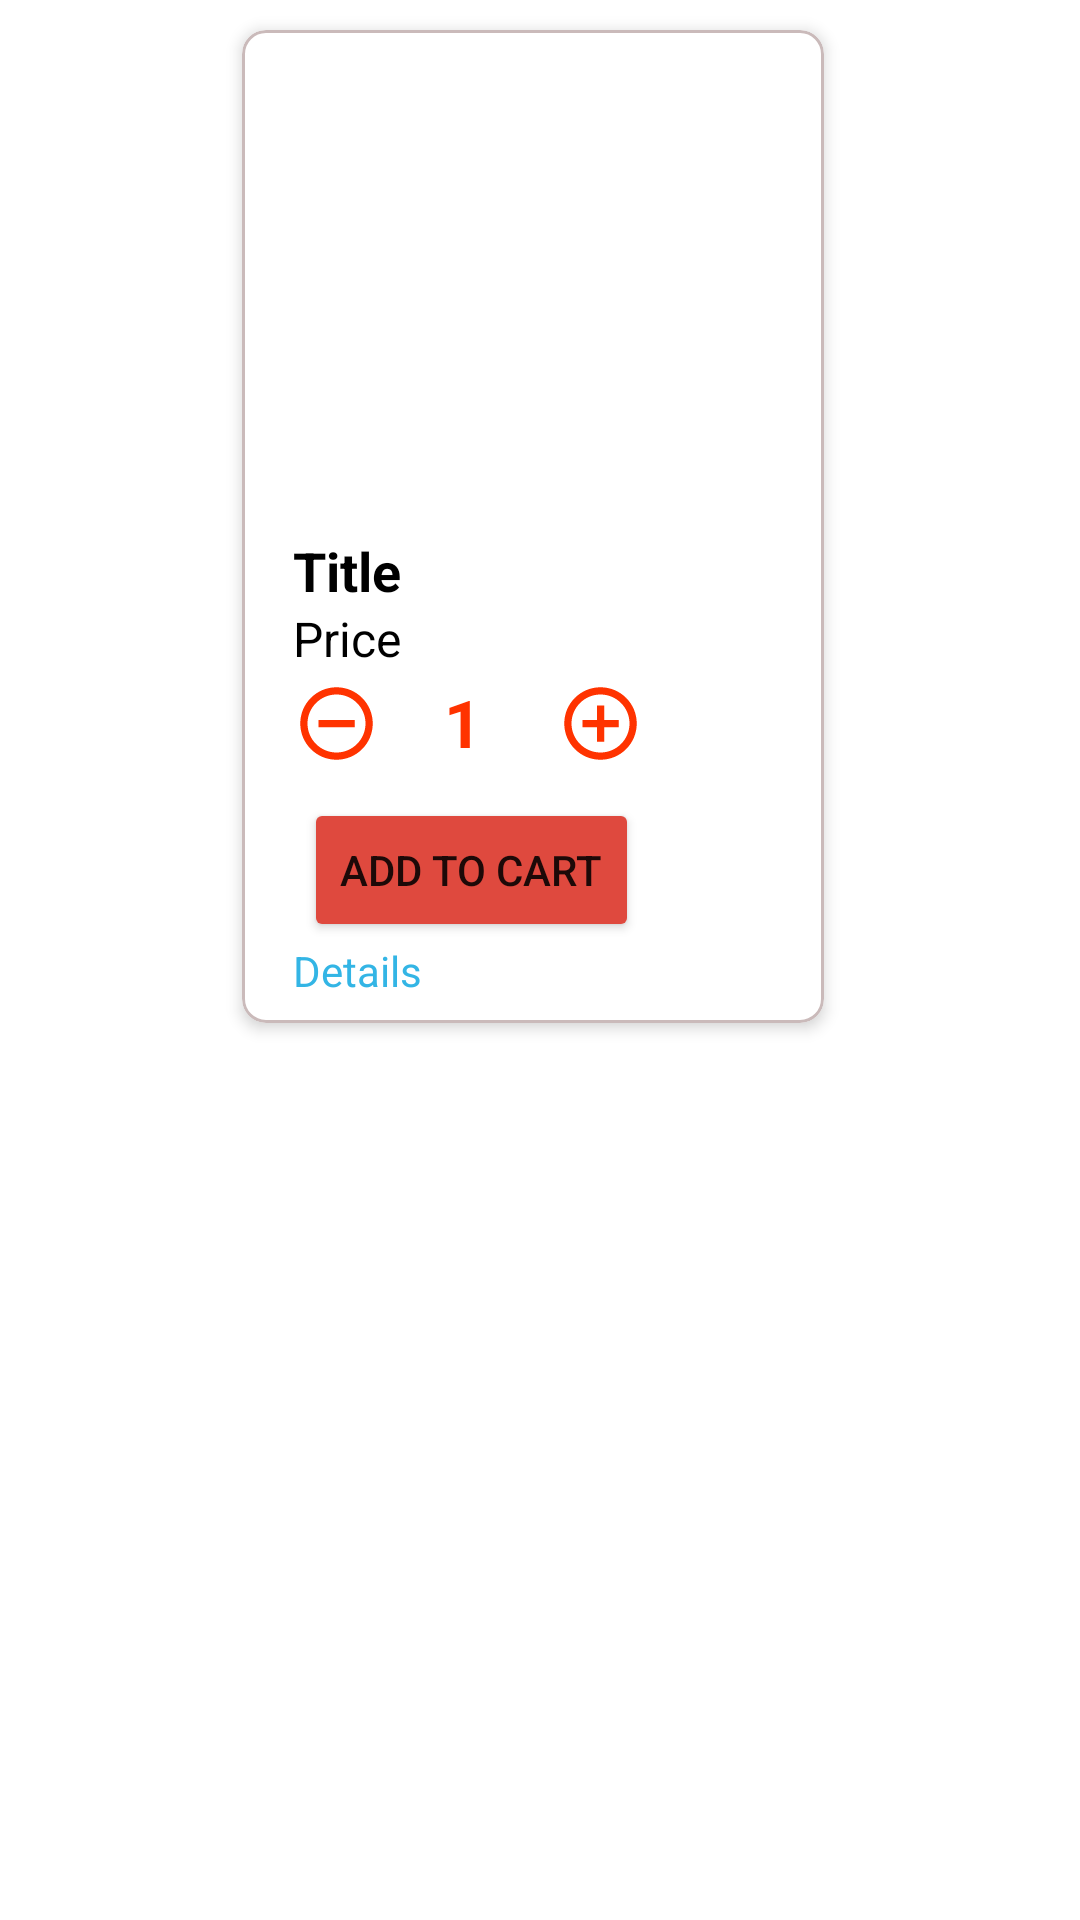

Icon bounding boxes for this 1080*1920 phone screenshot, format (x1=x1, y1=y1, x2=x2, y2=y2):
add circle: (x1=564, y1=687, x2=637, y2=760)
remove circle: (x1=300, y1=687, x2=373, y2=760)
